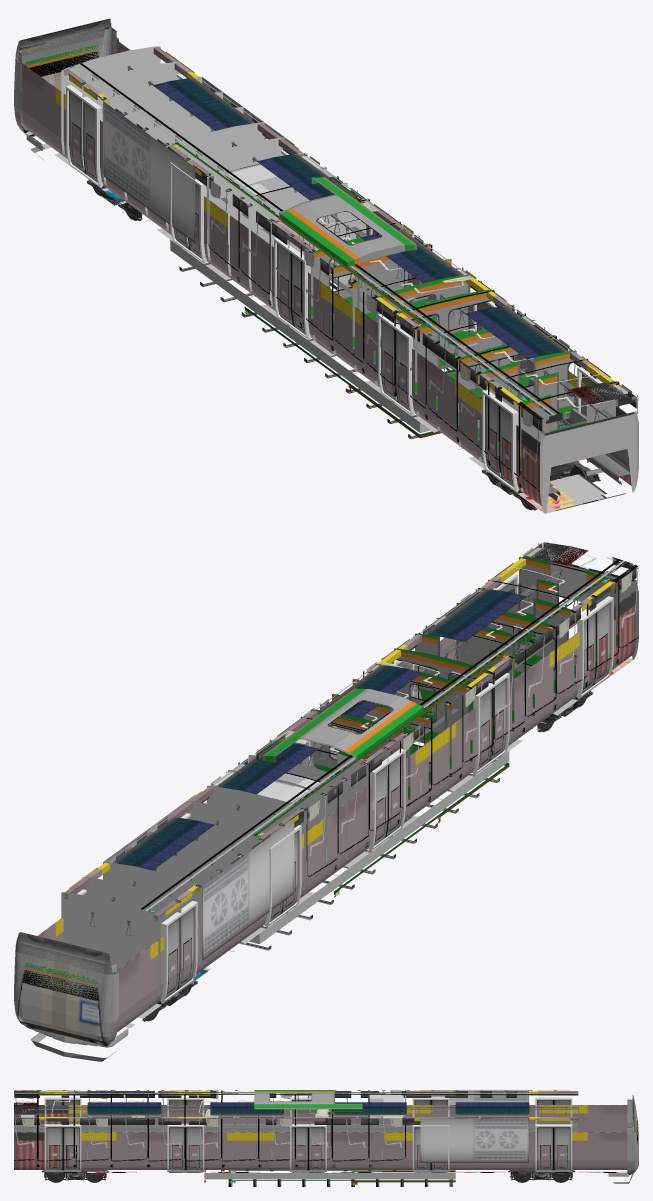
Rendered from m-3_24_i_cab_r.obj.
The picture shows the model from 3 angles, top to bottom: view 1: azimuth 30°, elevation 25°; view 2: azimuth 150°, elevation 25°; view 3: azimuth 270°, elevation 25°; orthographic projection. The views are drawn at different scales.
Parts seen in each view (by area): view 1: BD1-24m_body_exterior_(type_I), BD4-24m_body_interior_(type_I), BD2-24m_body_interior_(type_I), HP2-type_m-3E-front, BD3-24m_body_interior_(type_I), MC2-top_machine, MC1-bottom_machine, HP6-type_m-3A-back, HP5-type_m-3A-back, WD2RB, WD2RF, HP1-type_m-3E-front (+4 smaller); view 2: BD4-24m_body_interior_(type_I), BD1-24m_body_exterior_(type_I), BD2-24m_body_interior_(type_I), HP6-type_m-3A-back, HP5-type_m-3A-back, MC2-top_machine, BD3-24m_body_interior_(type_I), MC1-bottom_machine, HP2-type_m-3E-front, WD2RF, WD2RB, HP1-type_m-3E-front (+3 smaller); view 3: BD2-24m_body_interior_(type_I), BD1-24m_body_exterior_(type_I), BD3-24m_body_interior_(type_I), HP6-type_m-3A-back, MC1-bottom_machine, W21LF, WD2LB, MC2-top_machine, HP2-type_m-3E-front, bogie, BD4-24m_body_interior_(type_I), WD1LB (+5 smaller).
Boxes of the visible parts, box(x1,y1,x2,y2) form: BD1-24m_body_exterior_(type_I): box(66, 62, 602, 498); BD4-24m_body_interior_(type_I): box(61, 46, 618, 491); BD2-24m_body_interior_(type_I): box(63, 85, 600, 493); HP2-type_m-3E-front: box(521, 382, 638, 513); BD3-24m_body_interior_(type_I): box(63, 47, 615, 468); MC2-top_machine: box(279, 177, 417, 267); MC1-bottom_machine: box(170, 240, 453, 439); HP6-type_m-3A-back: box(17, 27, 130, 158); HP5-type_m-3A-back: box(14, 18, 118, 163); WD2RB: box(69, 91, 499, 476); WD2RF: box(83, 101, 517, 492); HP1-type_m-3E-front: box(519, 381, 638, 513); BD4-24m_body_interior_(type_I): box(61, 557, 618, 1000); BD1-24m_body_exterior_(type_I): box(77, 573, 618, 1009); BD2-24m_body_interior_(type_I): box(115, 567, 615, 1004); HP6-type_m-3A-back: box(18, 917, 158, 1040); HP5-type_m-3A-back: box(14, 932, 154, 1061); MC2-top_machine: box(256, 688, 423, 762); BD3-24m_body_interior_(type_I): box(63, 558, 614, 936); MC1-bottom_machine: box(239, 751, 509, 950); HP2-type_m-3E-front: box(523, 542, 638, 669); WD2RF: box(178, 602, 610, 988); WD2RB: box(161, 613, 596, 1004); HP1-type_m-3E-front: box(519, 543, 638, 674); BD2-24m_body_interior_(type_I): box(38, 1091, 578, 1169); BD1-24m_body_exterior_(type_I): box(38, 1090, 578, 1172); BD3-24m_body_interior_(type_I): box(38, 1091, 578, 1131); HP6-type_m-3A-back: box(578, 1099, 638, 1169); MC1-bottom_machine: box(204, 1170, 455, 1186); W21LF: box(46, 1127, 553, 1172); WD2LB: box(63, 1127, 570, 1172); MC2-top_machine: box(254, 1090, 362, 1114); HP2-type_m-3E-front: box(14, 1091, 38, 1169); bogie: box(41, 1170, 575, 1182); BD4-24m_body_interior_(type_I): box(38, 1106, 578, 1125); WD1LB: box(63, 1118, 570, 1170).
Bounding box in the file's own units: 2.8 × 3.47 × 25.47.
Materials: 4 (3 with a texture image).
